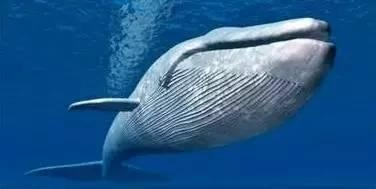fish: (22, 18, 338, 183)
